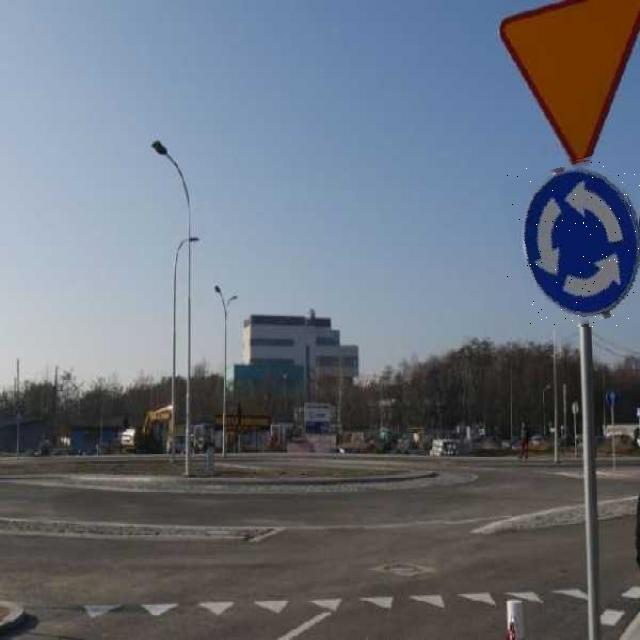roundabout: (505, 156, 640, 327)
